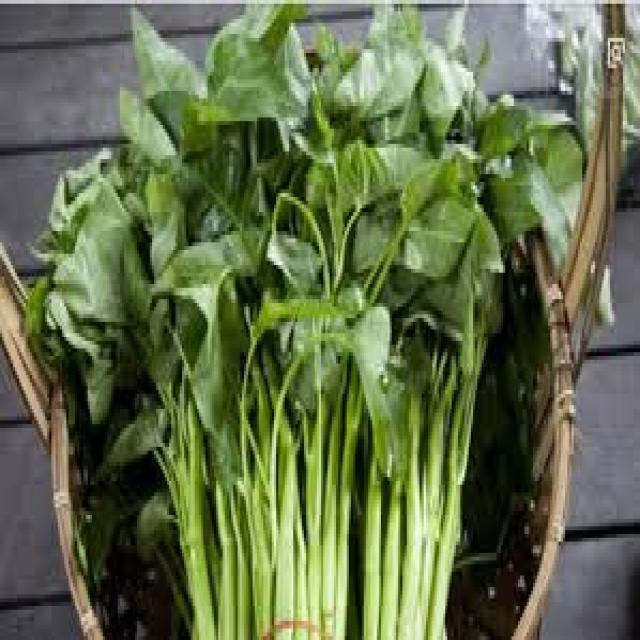food_waste: (26, 0, 582, 636)
